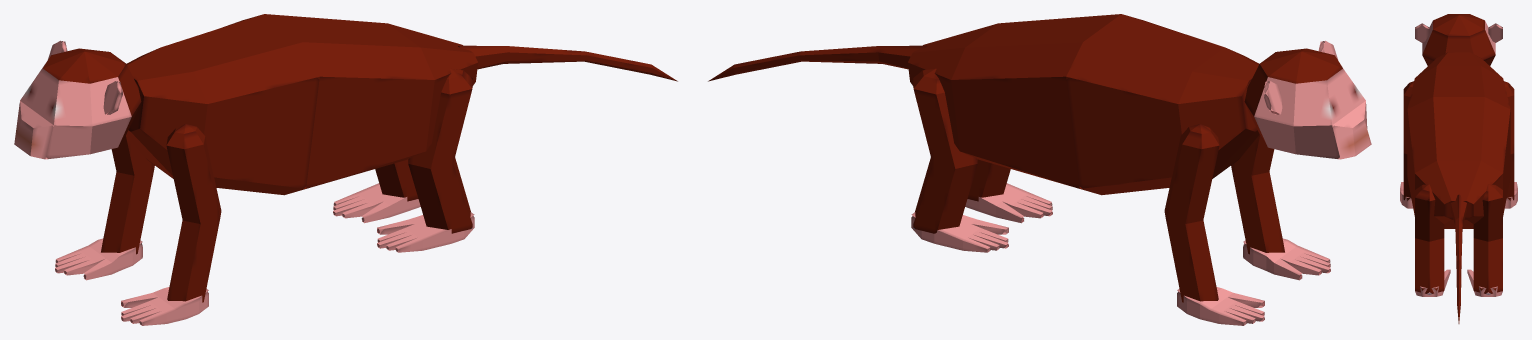
File: ape.obj
3 views of the same model, side by side, from view 1: azimuth 30°, elevation 25°; view 2: azimuth 150°, elevation 25°; view 3: azimuth 270°, elevation 25° (orthographic). The views are drawn at different scales.
Parts seen in each view (by area): view 1: cuboid, cylinder, sphere; view 2: cuboid, cylinder, sphere; view 3: cuboid, cylinder, sphere.
Boxes of the visible parts, x1,y1,x2,y2 form: cuboid: [55, 14, 478, 325]; cylinder: [48, 40, 677, 302]; sphere: [14, 48, 141, 159]; cuboid: [907, 14, 1330, 325]; cylinder: [708, 40, 1338, 302]; sphere: [1244, 48, 1371, 159]; cuboid: [1400, 52, 1517, 296]; cylinder: [1403, 23, 1514, 323]; sphere: [1422, 14, 1495, 65].
Bounding box in the file's own units: 4.3 × 1.56 × 1.
1 material, 1 textured.
